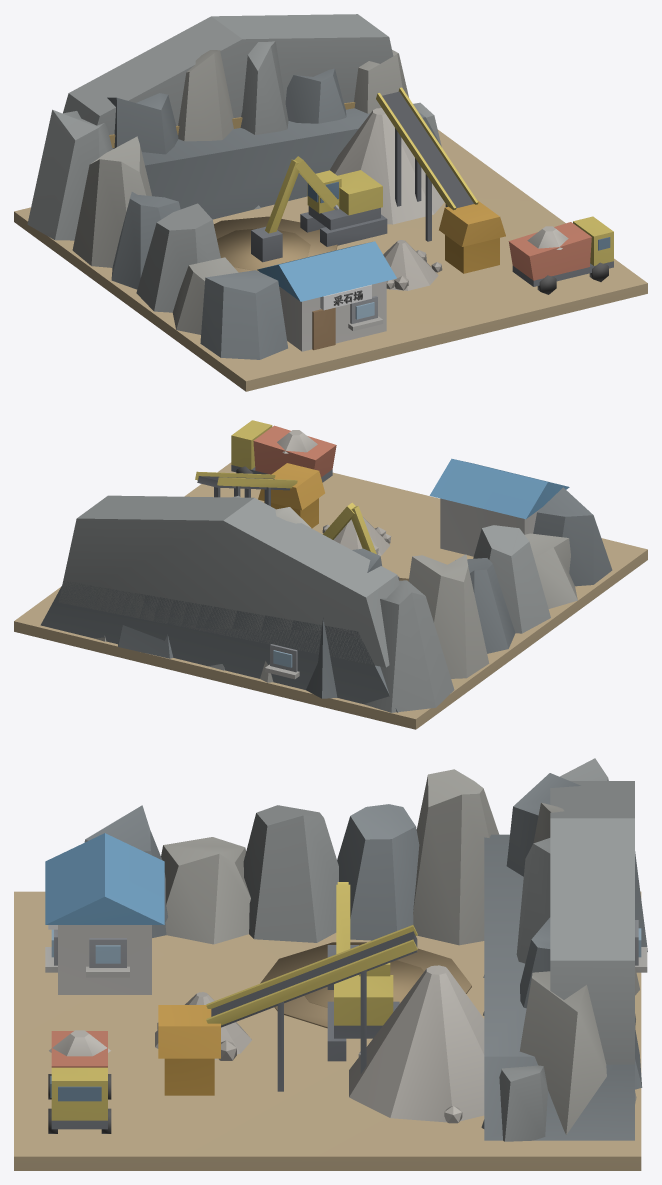
The model's file is mine.glb.
3 renders of one model, top to bottom at view 1: azimuth 30°, elevation 25°; view 2: azimuth 150°, elevation 25°; view 3: azimuth 270°, elevation 25°, orthographic. The views are drawn at different scales.
Parts seen in each view (by area): view 1: mine; view 2: mine; view 3: mine.
Part boxes in pixels (x1,y1,x2,y2): mine: (14, 14, 647, 391); mine: (14, 420, 647, 729); mine: (14, 758, 647, 1170).
Bounding box in the file's own units: 2.02 × 0.76 × 2.02.
